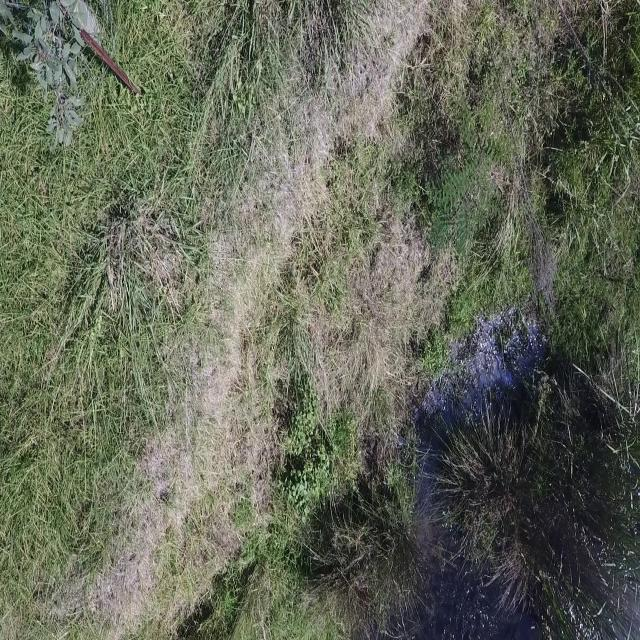Mysore-Thorn-Weed: (432, 82, 508, 264)
